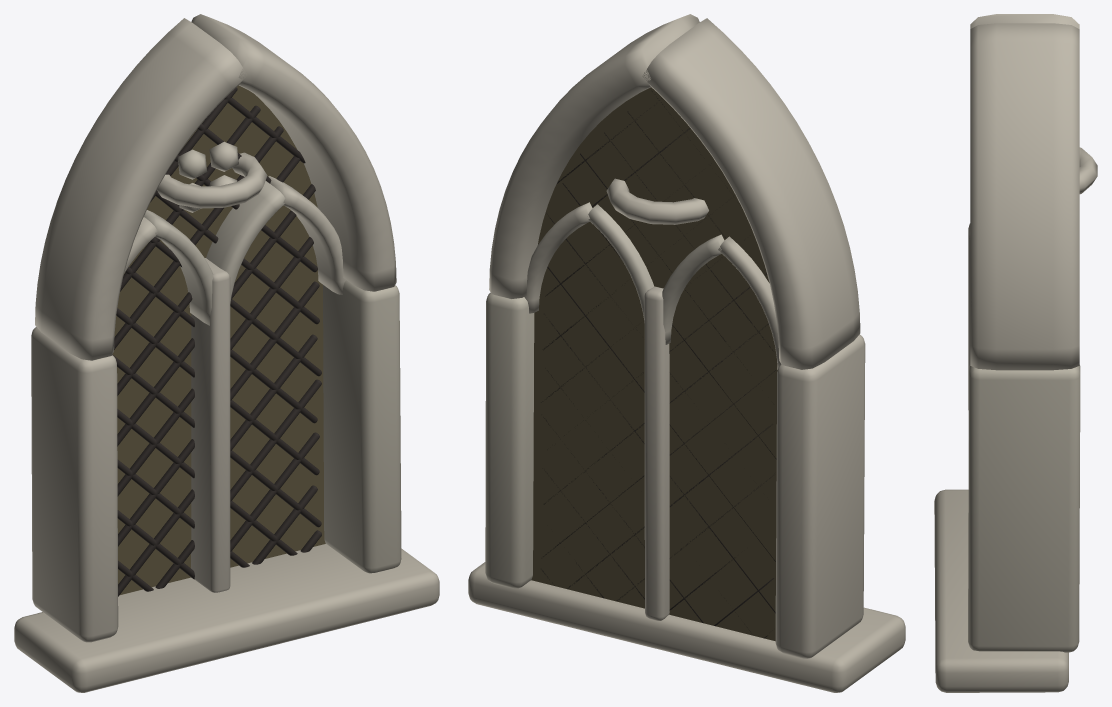
File: tg_window_tracery.glb
The picture shows the model from 3 angles, left to right: view 1: azimuth 30°, elevation 25°; view 2: azimuth 150°, elevation 25°; view 3: azimuth 270°, elevation 25°; orthographic projection. The views are drawn at different scales.
Visible parts, largest first — view 1: tracery, Glow; view 2: tracery, Glow; view 3: tracery.
Boxes of the visible parts, x1,y1,x2,y2 form: tracery: (14,14,439,692); Glow: (112,85,325,594); tracery: (468,14,905,692); Glow: (531,87,777,641); tracery: (934,14,1097,692).
Bounding box in the file's own units: 1.14 × 1.76 × 0.4398.
